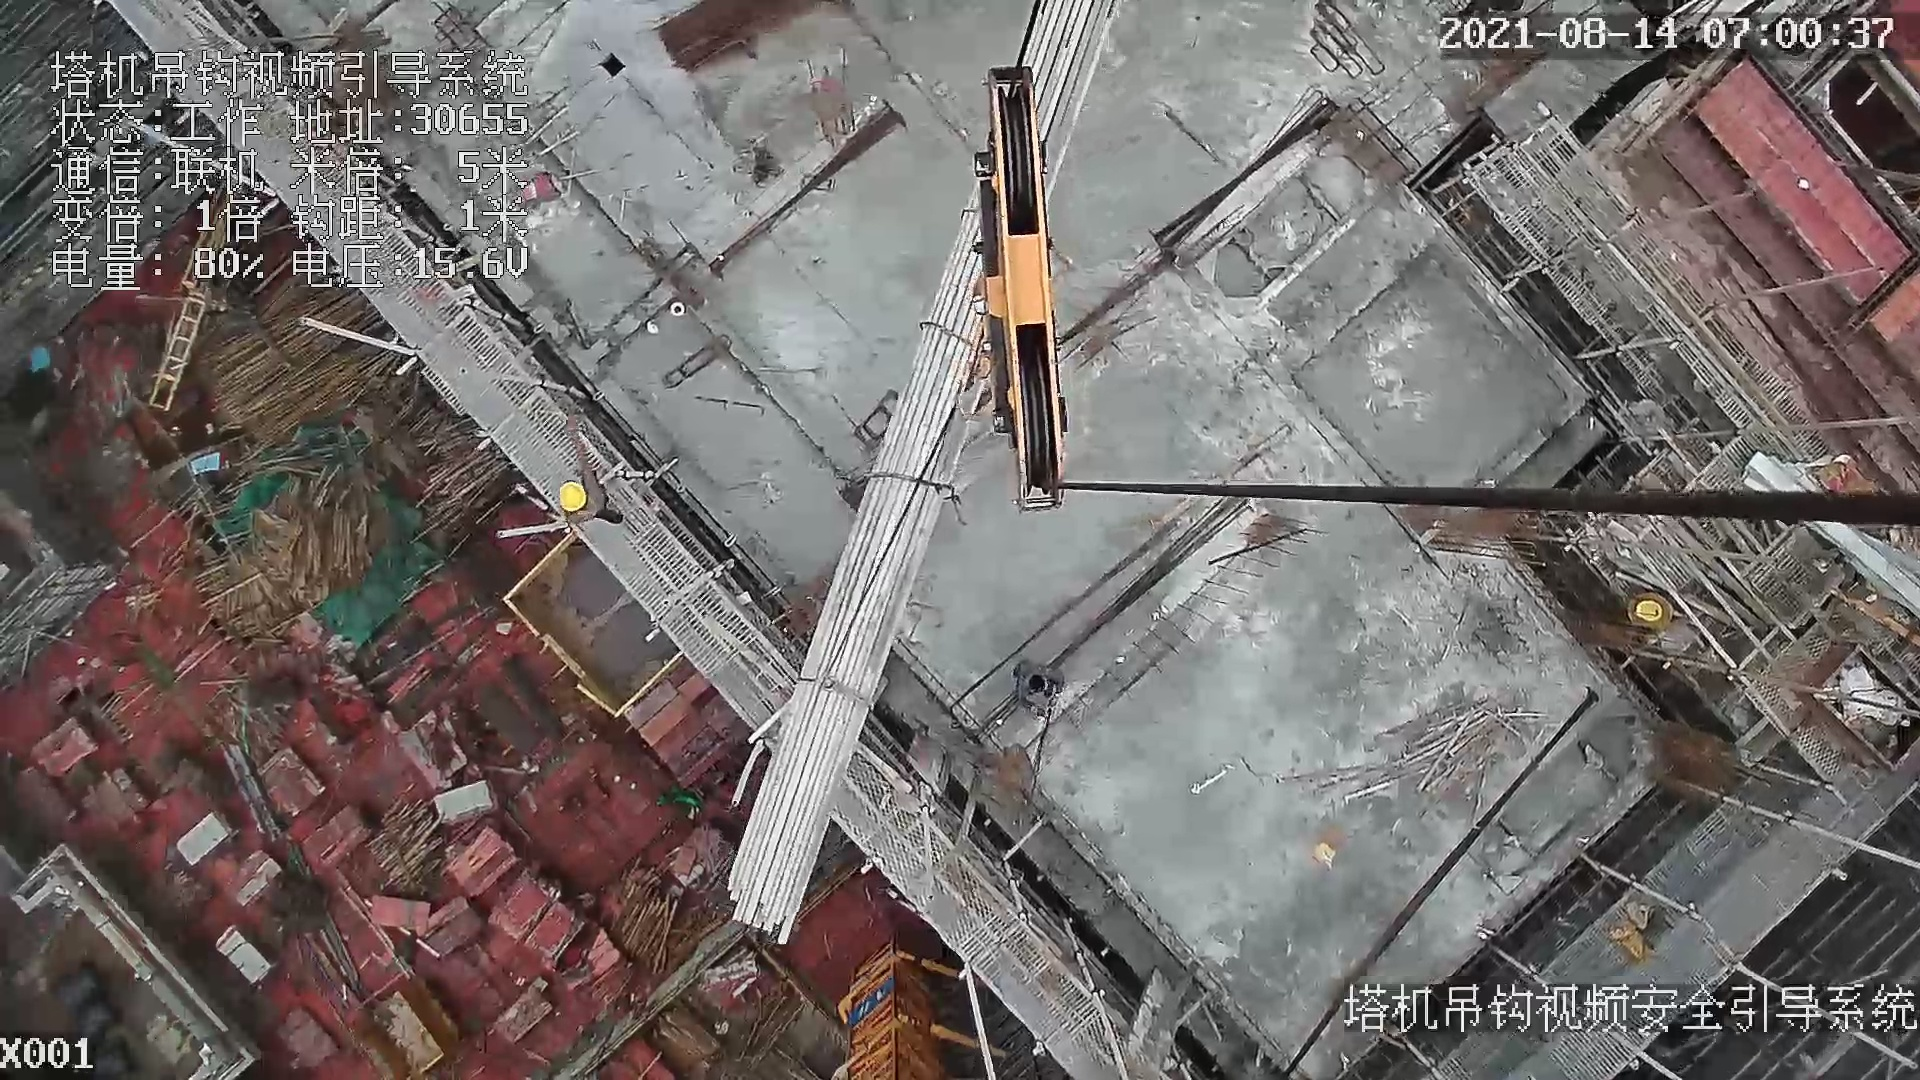helmet: (558, 471, 590, 529)
hook: (929, 69, 1074, 509)
person: (553, 423, 623, 530), (1010, 649, 1072, 718)
